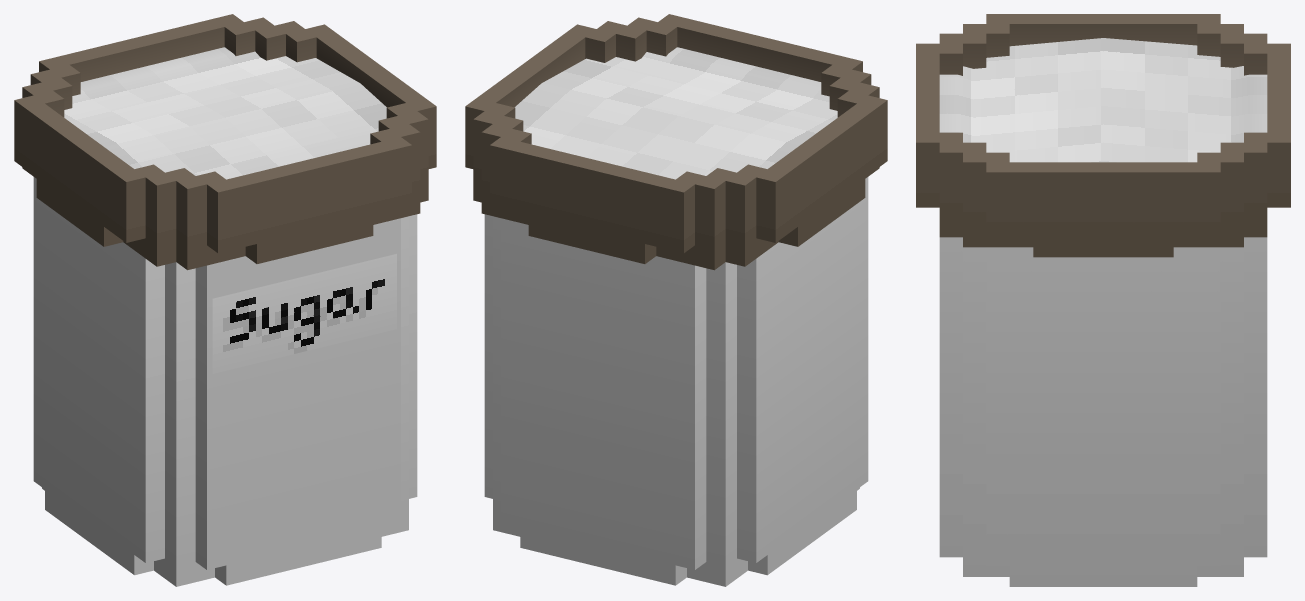
File: Sugar_Final.fbx
The picture shows the model from 3 angles, left to right: view 1: azimuth 30°, elevation 25°; view 2: azimuth 150°, elevation 25°; view 3: azimuth 270°, elevation 25°; orthographic projection. The views are drawn at different scales.
Visible parts, largest first — view 1: Sugar, Cubes; view 2: Sugar, Cubes; view 3: Sugar, Cubes.
Part boxes in pixels (x1,y1,x2,y2): Sugar: [14, 14, 436, 586]; Cubes: [64, 47, 386, 179]; Sugar: [465, 14, 887, 586]; Cubes: [515, 47, 837, 179]; Sugar: [916, 14, 1290, 586]; Cubes: [939, 38, 1267, 162].
Size of the model in its own units: 26.93 by 33.66 by 26.93.
1 material, 1 textured.
